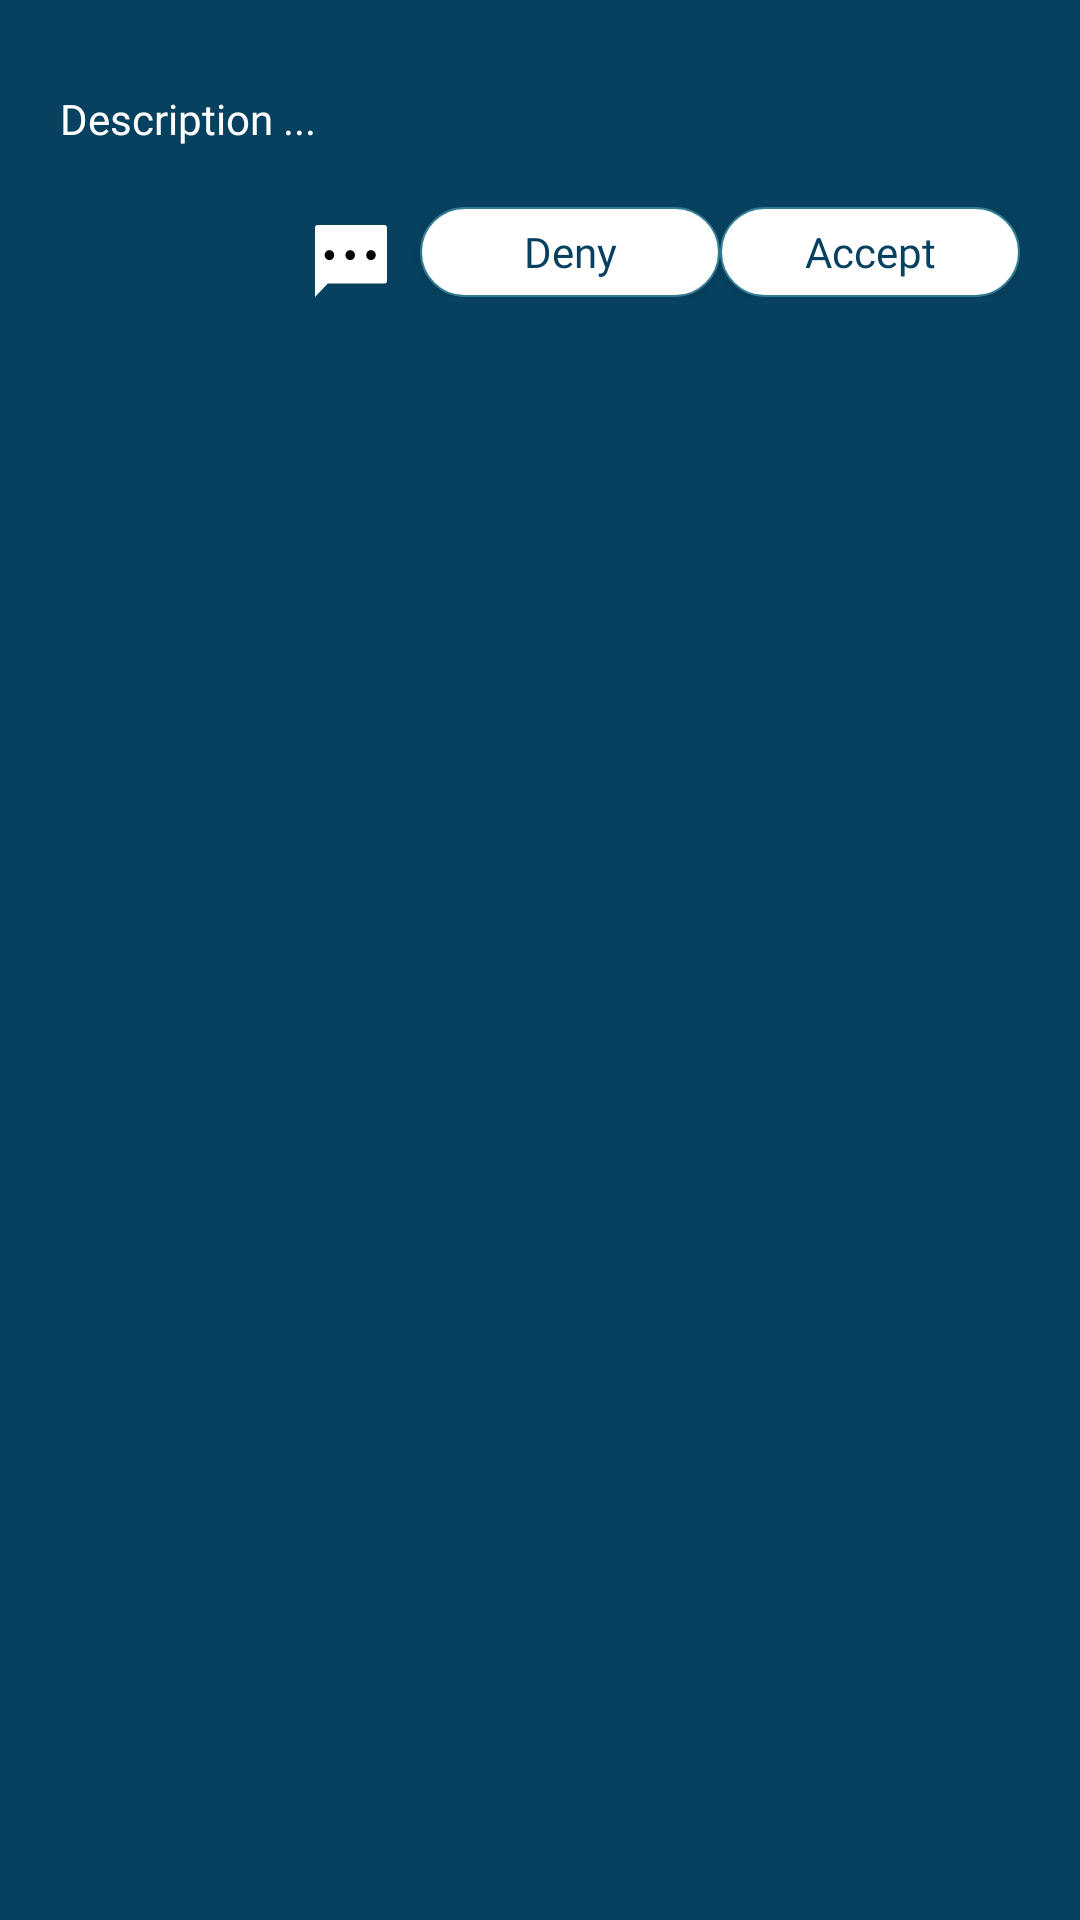

Icon bounding boxes for this 1080px x 1920px phone screenshot, format (x1, y1, x2, y2):
comment: (315, 225, 387, 297)
